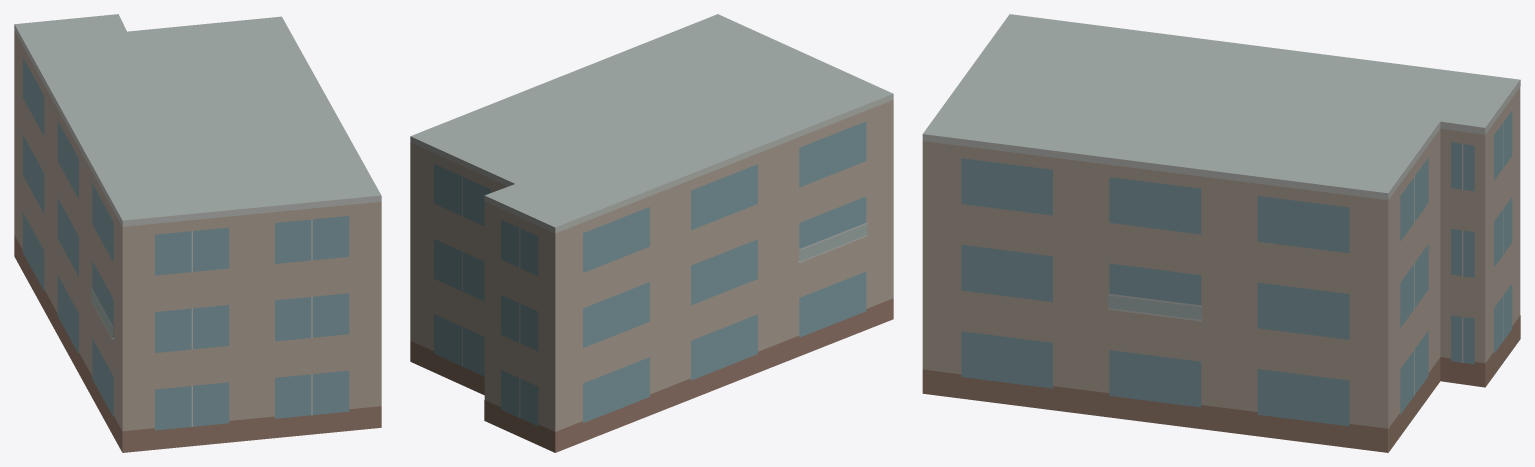
The model's file is survey-upis-32689395.glb.
The picture shows the model from 3 angles, left to right: view 1: azimuth 30°, elevation 25°; view 2: azimuth 150°, elevation 25°; view 3: azimuth 270°, elevation 25°; orthographic projection. The views are drawn at different scales.
Visible parts, largest first — view 1: survey-upis-32689395.tmp; view 2: survey-upis-32689395.tmp; view 3: survey-upis-32689395.tmp.
Part boxes in pixels (x1,y1,x2,y2): survey-upis-32689395.tmp: (14,14,381,452); survey-upis-32689395.tmp: (410,14,893,452); survey-upis-32689395.tmp: (922,14,1520,452).
Bounding box in the file's own units: 13.56 × 9.15 × 19.11.
